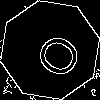O: (25, 25, 85, 83)
